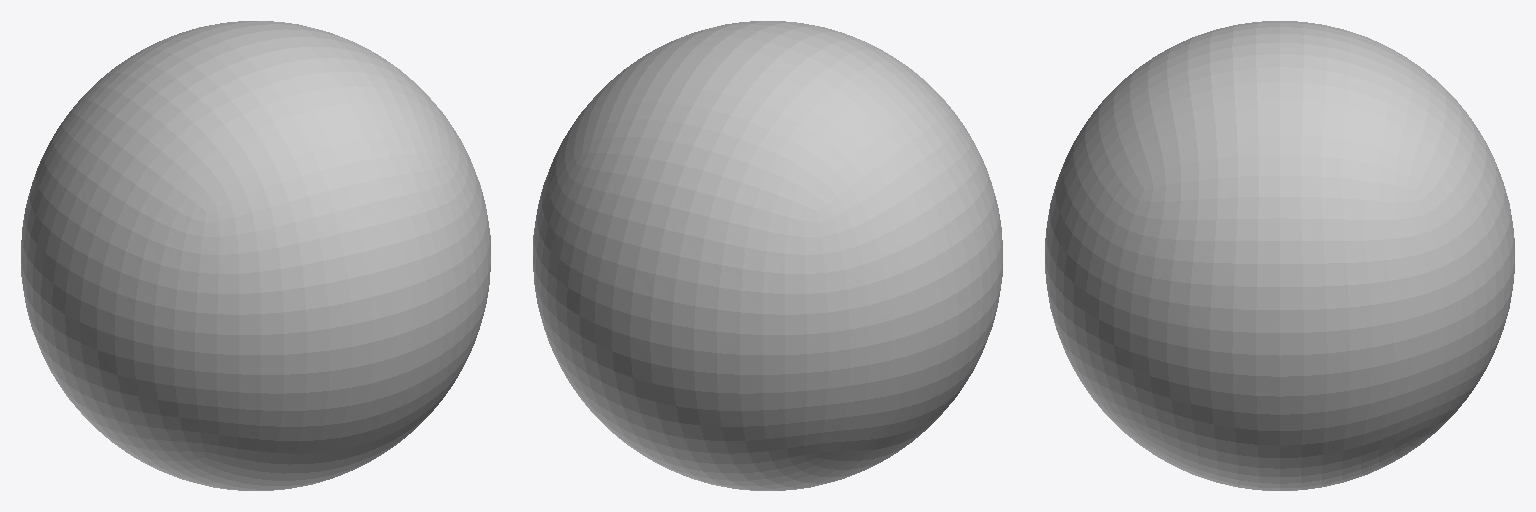
Rendered from planet.obj.
3 renders of one model, left to right at view 1: azimuth 30°, elevation 25°; view 2: azimuth 150°, elevation 25°; view 3: azimuth 270°, elevation 25°, orthographic.
Visible parts, largest first — view 1: planet; view 2: planet; view 3: planet.
Part boxes in pixels (left/top/right/bottom): planet: left=21, top=21, right=490, bottom=490; planet: left=533, top=21, right=1002, bottom=490; planet: left=1045, top=21, right=1514, bottom=490.
Bounding box in the file's own units: 1.39 × 1.39 × 1.39.